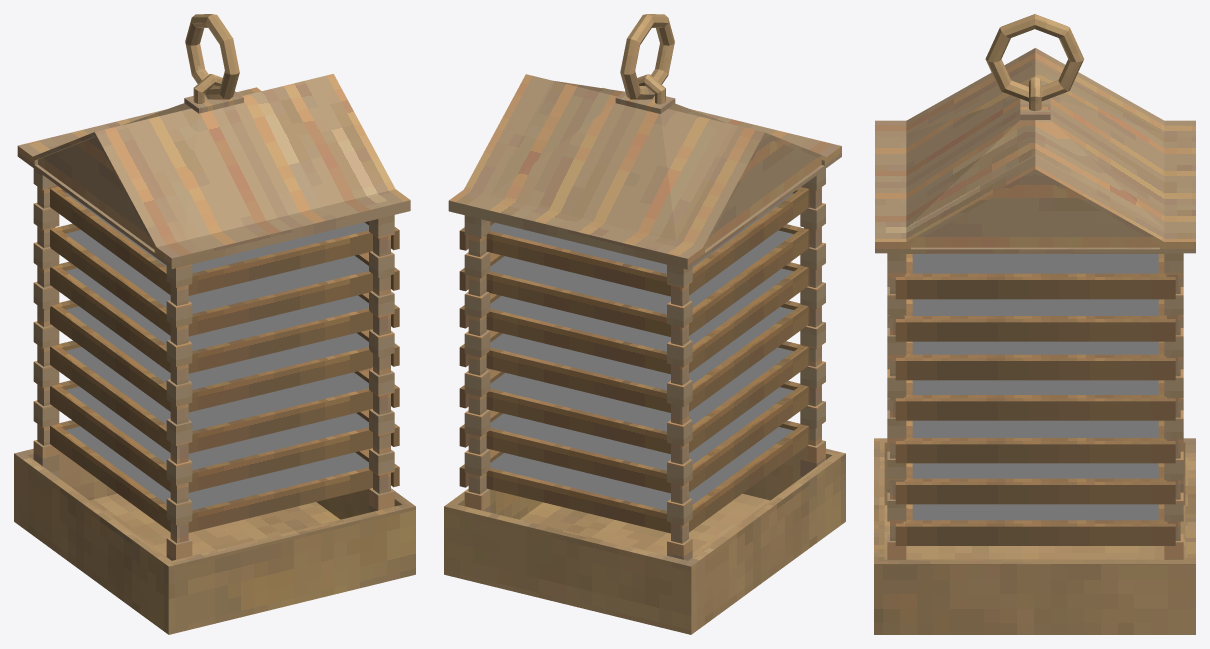
Rendered from Honey_Farm.fbx.
The picture shows the model from 3 angles, left to right: view 1: azimuth 30°, elevation 25°; view 2: azimuth 150°, elevation 25°; view 3: azimuth 270°, elevation 25°; orthographic projection. The views are drawn at different scales.
Visible parts, largest first — view 1: Honey_Farm_Frame, Honey_Tray, Honey_Frame, Honey_Frame_4, Honey_Frame_6, Honey_Frame_5, Honey_Frame_3, Honey_Frame_2, Honey_Frame_8, Honey_Comb_4, Honey_Comb_1, Honey_Comb_6 (+5 smaller); view 2: Honey_Farm_Frame, Honey_Tray, Honey_Frame, Honey_Frame_4, Honey_Frame_6, Honey_Frame_5, Honey_Frame_3, Honey_Frame_2, Honey_Frame_8, Honey_Comb_4, Honey_Comb_1, Honey_Comb_6 (+5 smaller); view 3: Honey_Farm_Frame, Honey_Tray, Honey_Frame_8, Honey_Frame_5, Honey_Frame_2, Honey_Frame_4, Honey_Frame, Honey_Frame_6, Honey_Frame_3, Honey_Comb, Honey_Comb_4, Honey_Comb_1 (+5 smaller).
Part boxes in pixels (x1=…): Honey_Farm_Frame: x1=17, y1=74, x2=410, y2=560; Honey_Tray: x1=14, y1=448, x2=415, y2=634; Honey_Frame: x1=50, y1=223, x2=399, y2=336; Honey_Frame_4: x1=50, y1=340, x2=399, y2=453; Honey_Frame_6: x1=50, y1=420, x2=399, y2=532; Honey_Frame_5: x1=50, y1=380, x2=399, y2=492; Honey_Frame_3: x1=50, y1=300, x2=399, y2=412; Honey_Frame_2: x1=50, y1=261, x2=399, y2=373; Honey_Frame_8: x1=50, y1=186, x2=399, y2=295; Honey_Comb_4: x1=66, y1=347, x2=368, y2=430; Honey_Comb_1: x1=66, y1=230, x2=368, y2=313; Honey_Comb_6: x1=65, y1=426, x2=368, y2=510; Honey_Farm_Frame: x1=448, y1=74, x2=841, y2=560; Honey_Tray: x1=444, y1=448, x2=845, y2=634; Honey_Frame: x1=459, y1=224, x2=809, y2=336; Honey_Frame_4: x1=459, y1=341, x2=809, y2=454; Honey_Frame_6: x1=459, y1=420, x2=809, y2=533; Honey_Frame_5: x1=459, y1=381, x2=809, y2=493; Honey_Frame_3: x1=459, y1=300, x2=809, y2=412; Honey_Frame_2: x1=459, y1=262, x2=809, y2=374; Honey_Frame_8: x1=459, y1=187, x2=809, y2=296; Honey_Comb_4: x1=490, y1=347, x2=793, y2=431; Honey_Comb_1: x1=490, y1=230, x2=793, y2=314; Honey_Comb_6: x1=490, y1=427, x2=793, y2=510; Honey_Farm_Frame: x1=875, y1=48, x2=1195, y2=559; Honey_Tray: x1=874, y1=438, x2=1195, y2=634; Honey_Frame_8: x1=895, y1=254, x2=1175, y2=299; Honey_Frame_5: x1=895, y1=463, x2=1175, y2=504; Honey_Frame_2: x1=895, y1=341, x2=1175, y2=380; Honey_Frame_4: x1=895, y1=420, x2=1175, y2=463; Honey_Frame: x1=895, y1=299, x2=1175, y2=341; Honey_Frame_6: x1=895, y1=504, x2=1175, y2=545; Honey_Frame_3: x1=895, y1=380, x2=1175, y2=420; Honey_Comb: x1=912, y1=254, x2=1158, y2=273; Honey_Comb_4: x1=912, y1=420, x2=1158, y2=437; Honey_Comb_1: x1=912, y1=299, x2=1158, y2=315.
Bounding box in the file's own units: 22.96 × 47.49 × 24.9.
4 materials, 4 textured.
